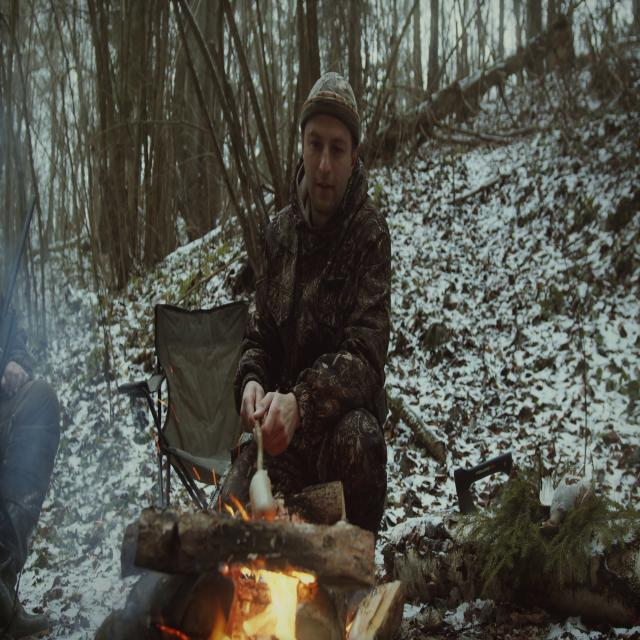Fire: (220, 558, 311, 640)
